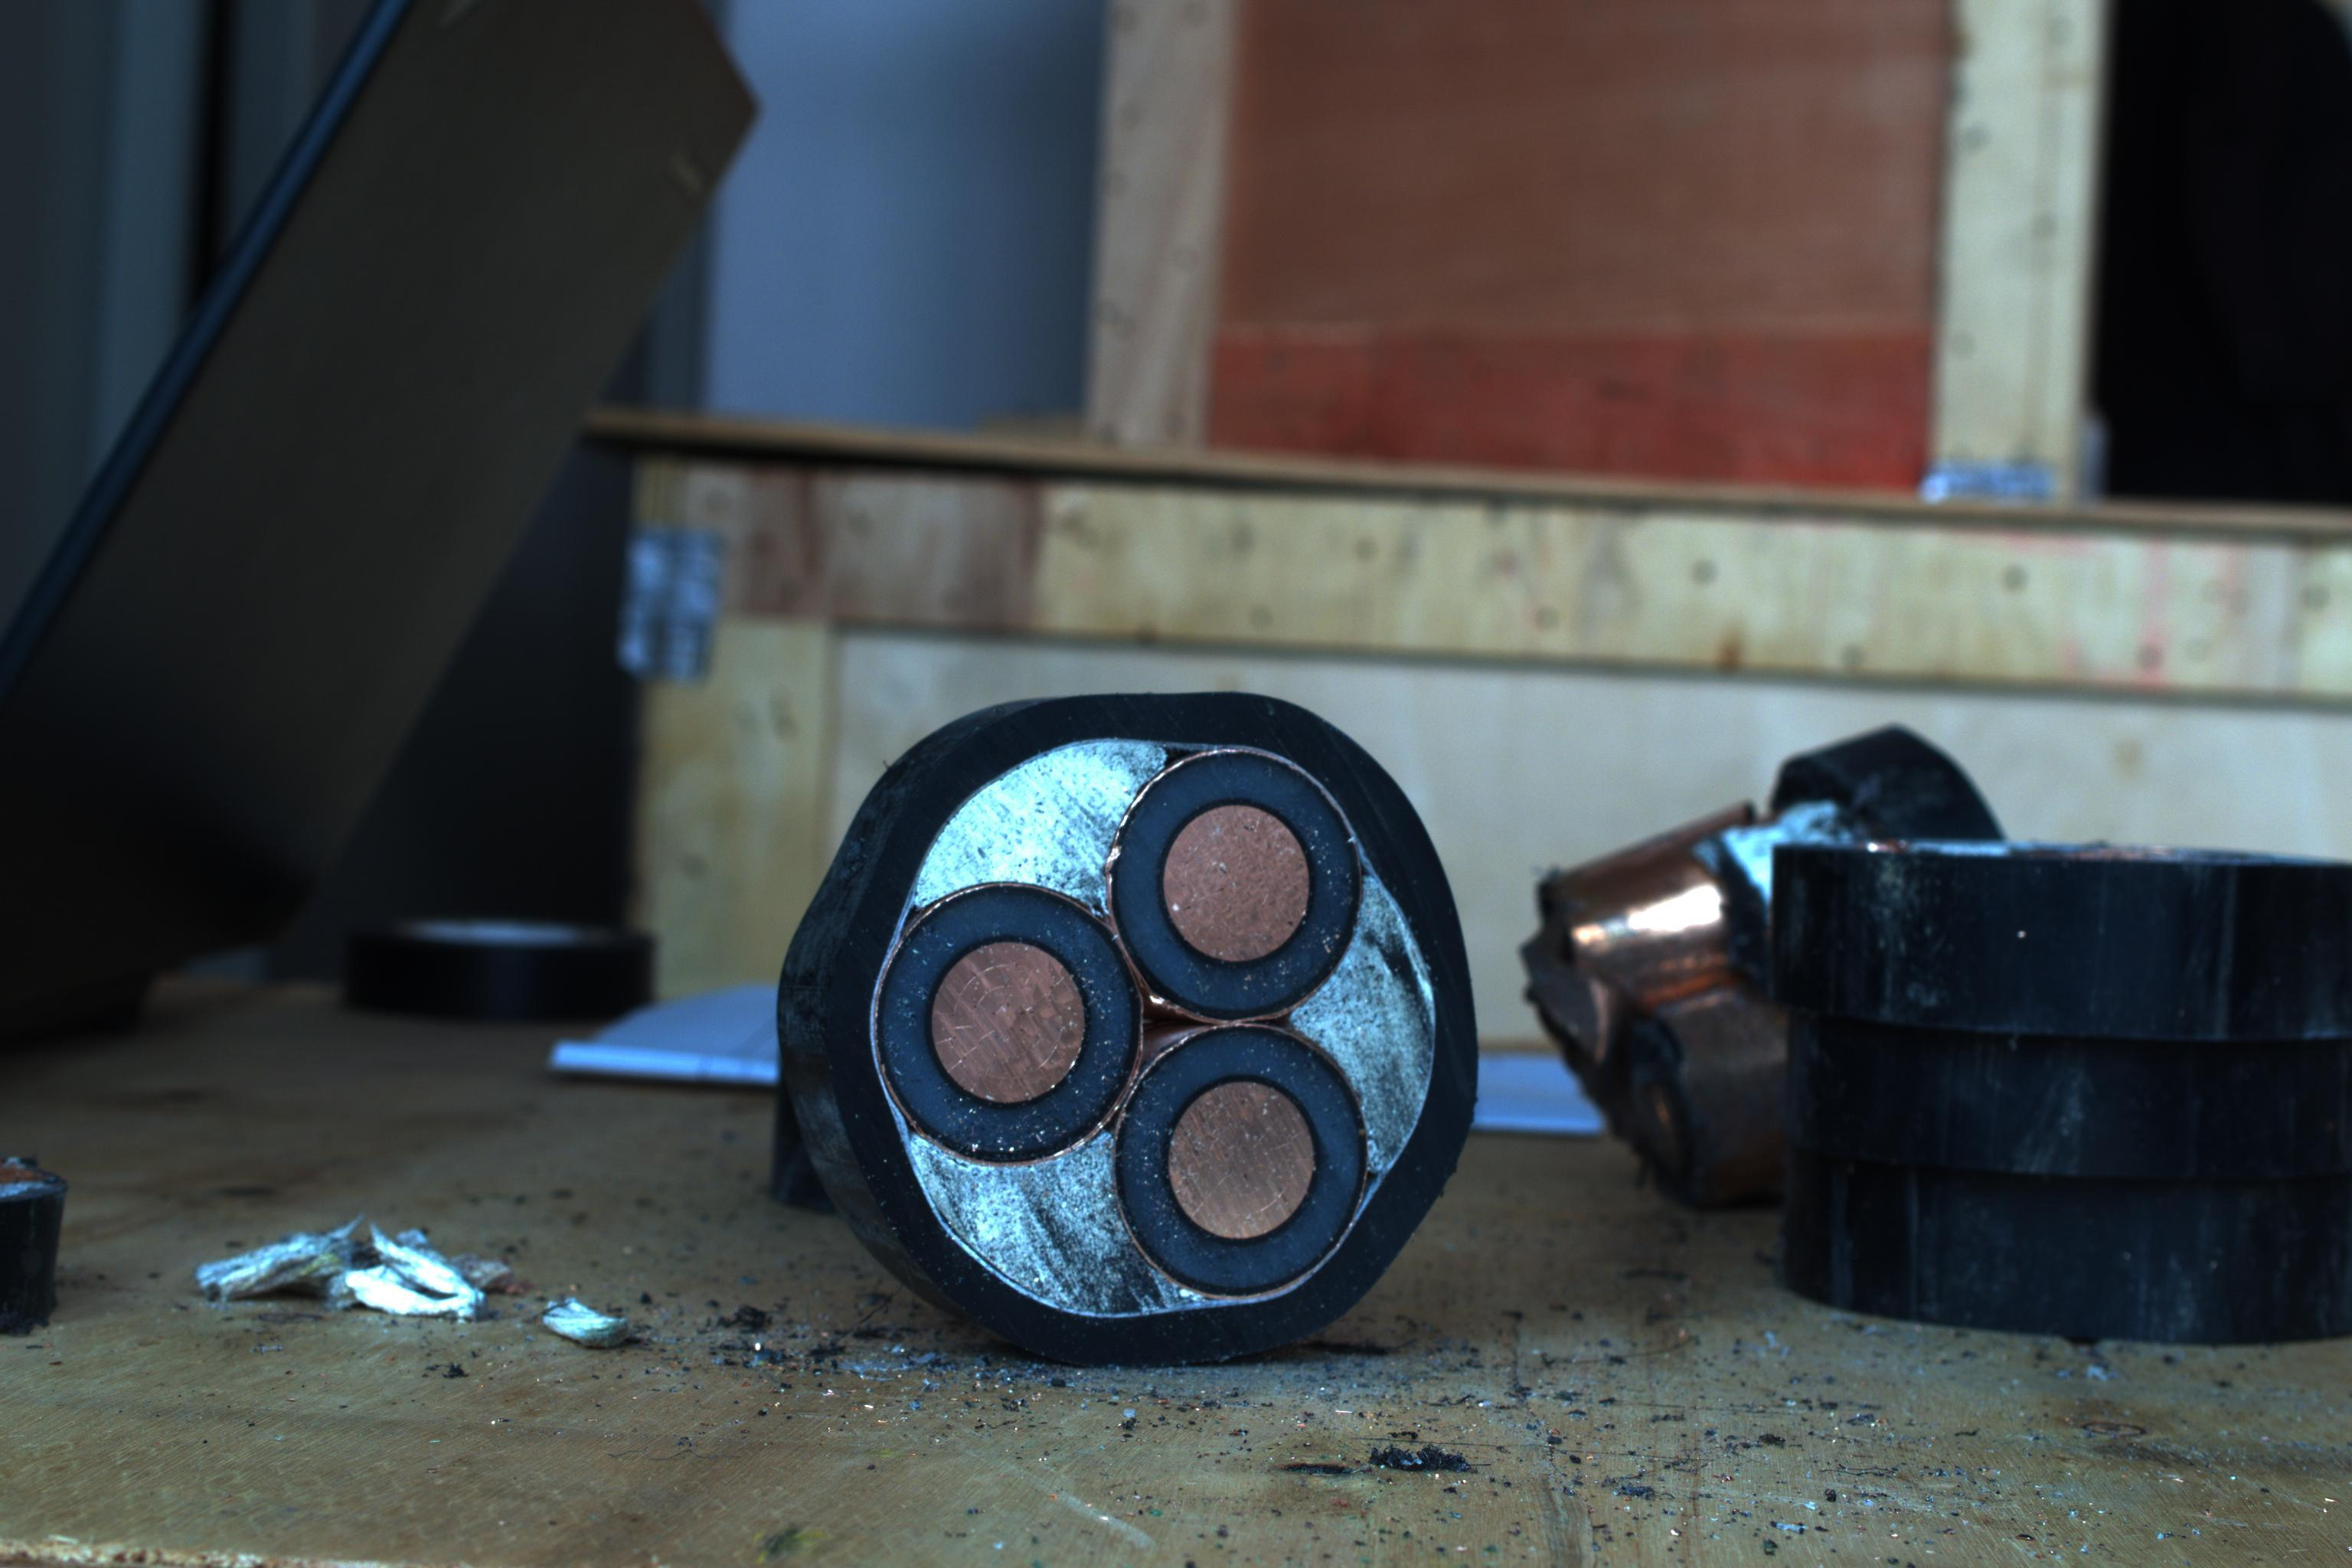ZA_YJV_8.7_10kV_3x240: (843, 684, 1477, 1361)
